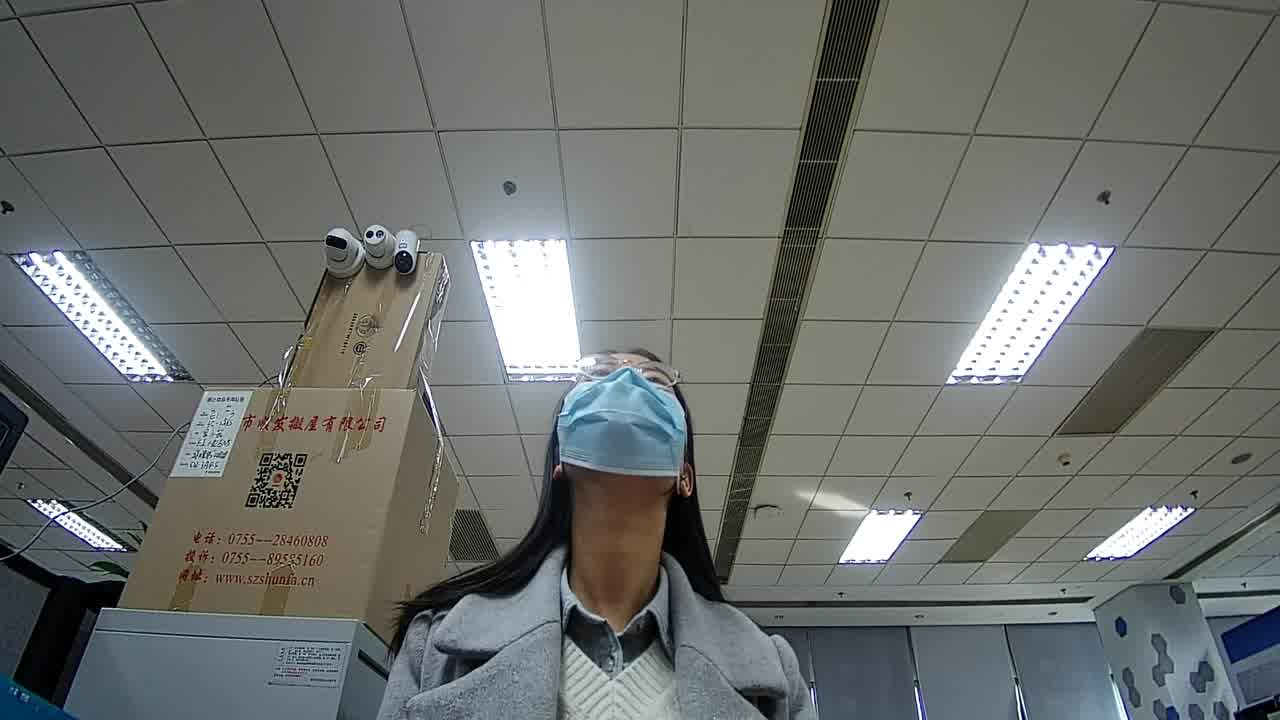face: (554, 354, 695, 485)
mask: (556, 374, 690, 478)
person: (492, 353, 764, 712)
